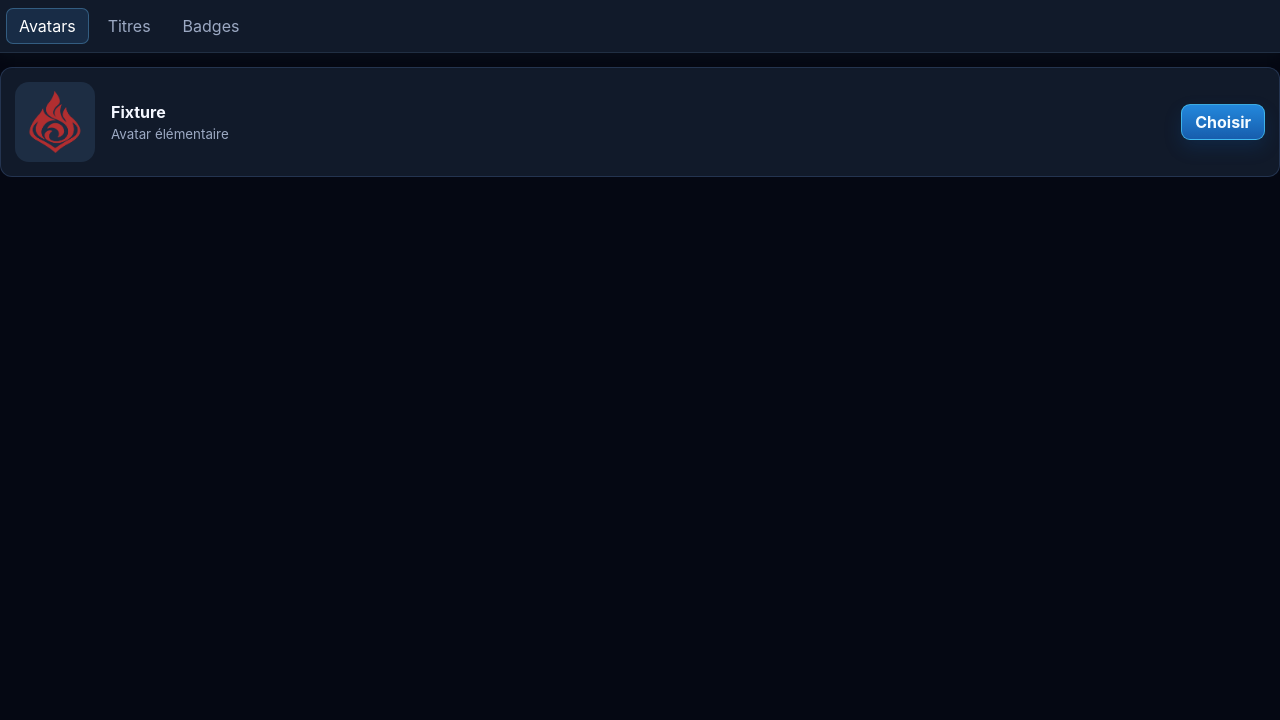
preserves a new acquisition after reopening while an older equipment response is pending
What coordinates should you click on to do the following:
click the button with class "appearance-choose"
I would click on:
 (1223, 122)
Its box is [1181,104,1265,140].
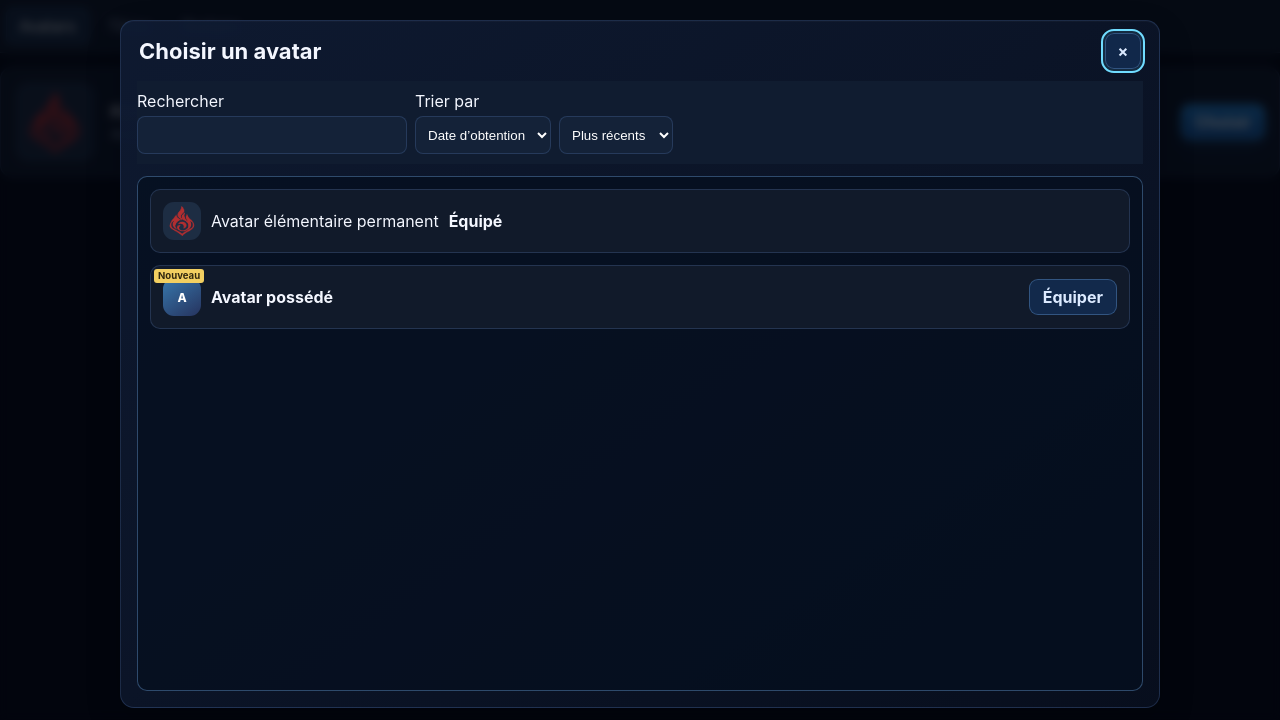
What coordinates should you click on to do the following:
click the button "Équiper"
I would click on:
 (1073, 297)
Its box is [1029,279,1117,315].
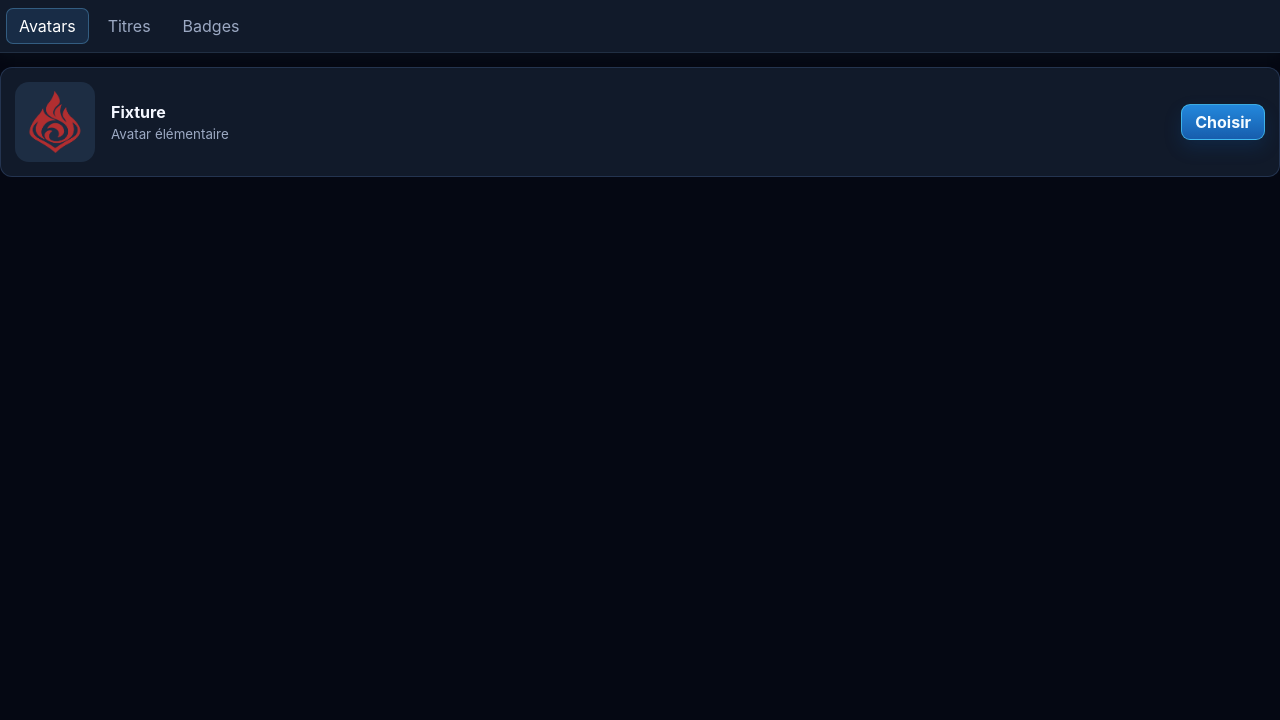
What coordinates should you click on to do the following:
click the button with class "appearance-choose"
I would click on:
 (1223, 122)
Its box is [1181,104,1265,140].
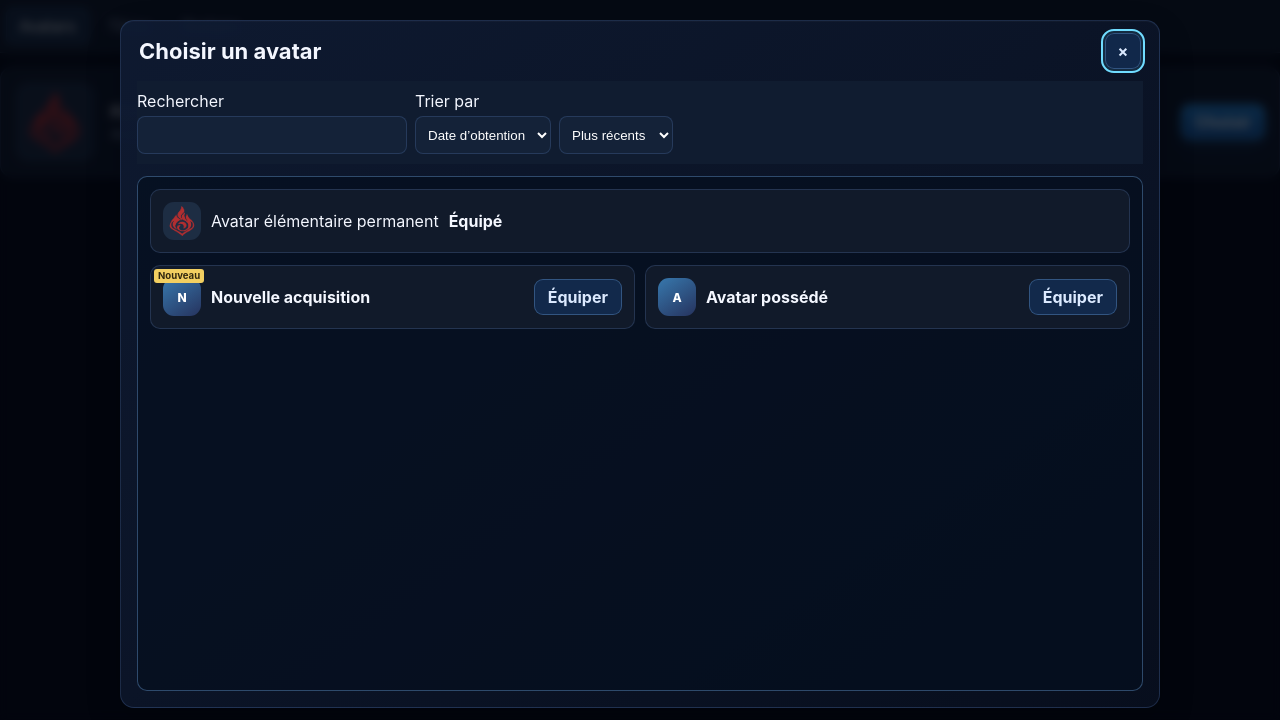
Check: the dialog shows "Nouvelle acquisition", box [211,287,370,307]
